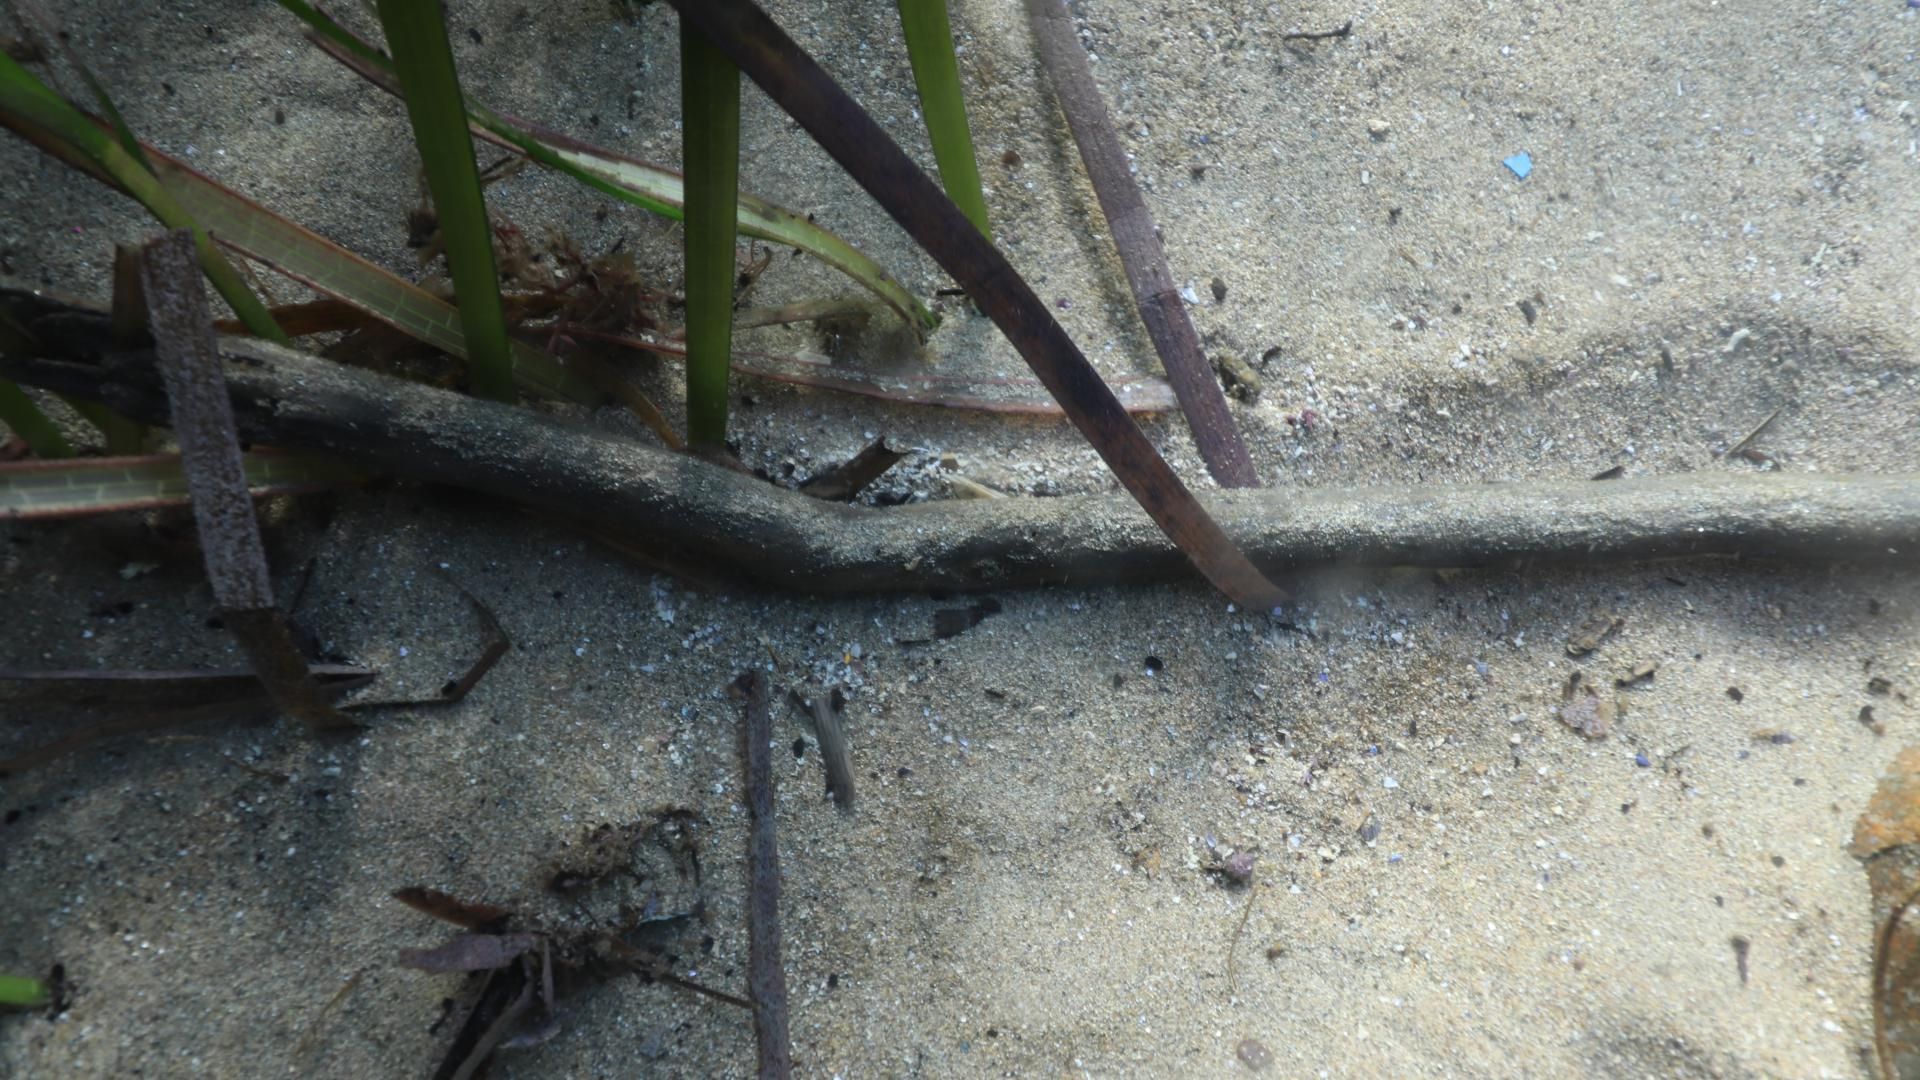wood: (212, 334, 1919, 593)
